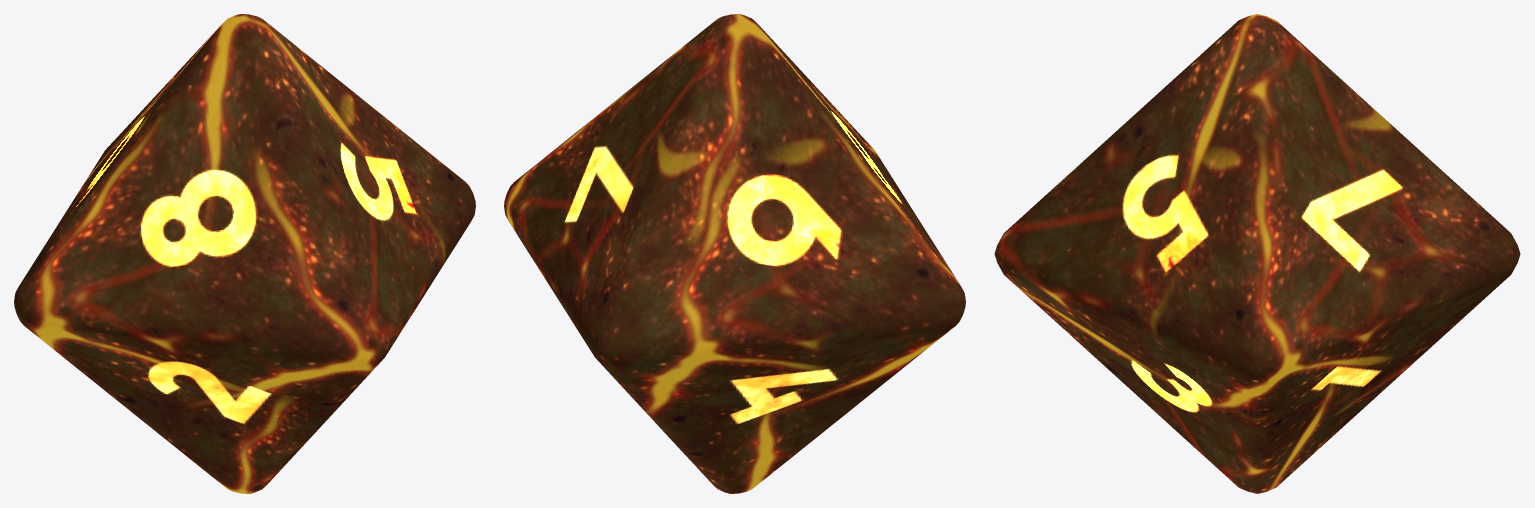
File: magma20_d8.gltf
3 views of the same model, side by side, from view 1: azimuth 30°, elevation 25°; view 2: azimuth 150°, elevation 25°; view 3: azimuth 270°, elevation 25° (orthographic).
Visible parts, largest first — view 1: dice_8; view 2: dice_8; view 3: dice_8.
Boxes of the visible parts, x1,y1,x2,y2 form: dice_8: (14,14,475,493); dice_8: (504,14,965,493); dice_8: (994,14,1520,493).
Size of the model in its own units: 185 by 185 by 185.
1 material, 1 textured.
